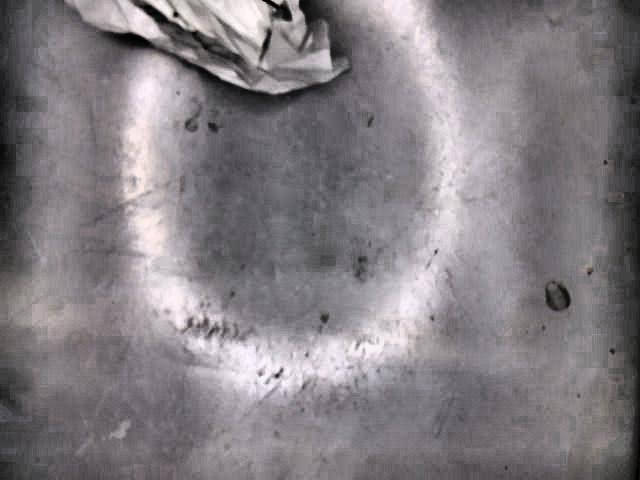Paper: (64, 1, 353, 96)
